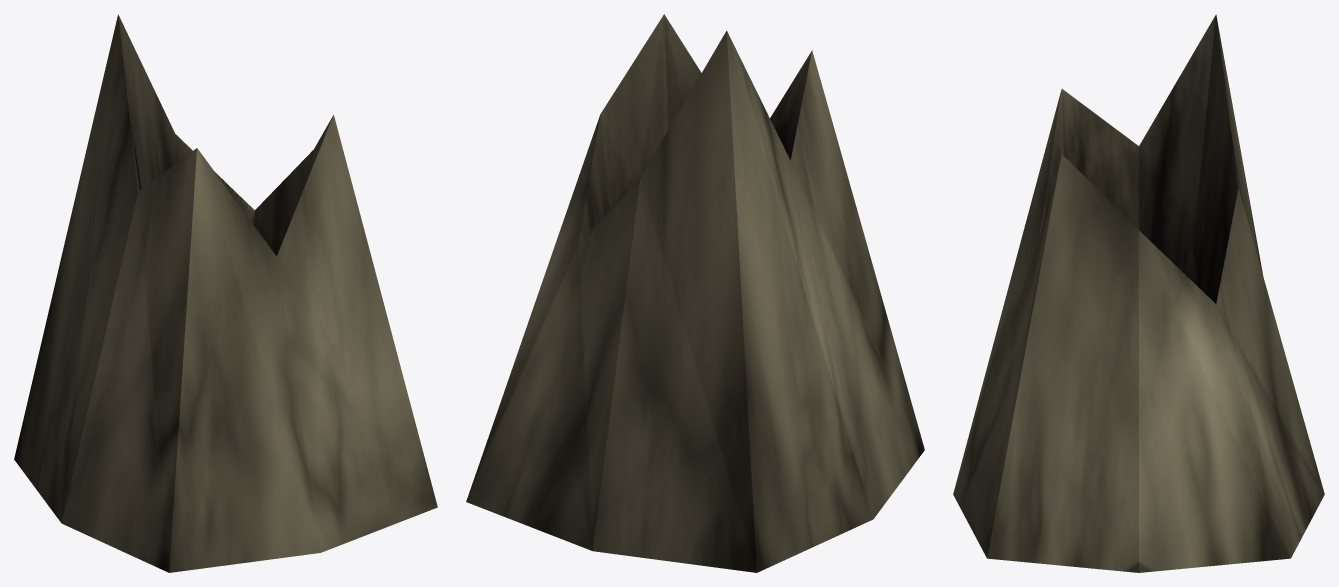
Rendered from hole.glb.
The picture shows the model from 3 angles, left to right: view 1: azimuth 30°, elevation 25°; view 2: azimuth 150°, elevation 25°; view 3: azimuth 270°, elevation 25°; orthographic projection. The views are drawn at different scales.
Parts seen in each view (by area): view 1: Cube.001; view 2: Cube.001; view 3: Cube.001.
Part boxes in pixels (x1,y1,x2,y2): Cube.001: [14, 14, 437, 572]; Cube.001: [466, 14, 924, 572]; Cube.001: [953, 14, 1324, 572].
Size of the model in its own units: 1.28 by 1.7 by 1.28.
1 material, 1 textured.
